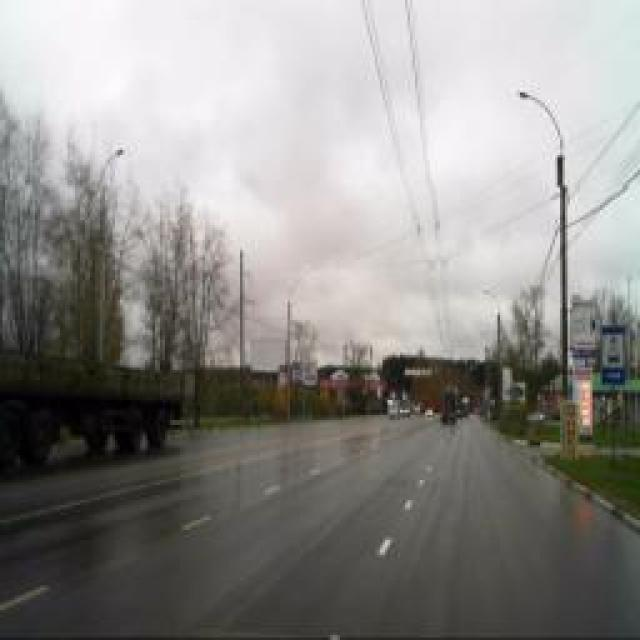sign: (602, 326, 626, 389)
